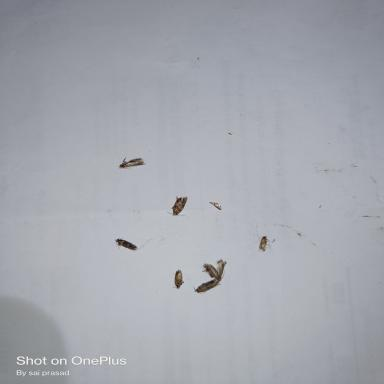pbw: (202, 259, 228, 281), (193, 279, 221, 295), (167, 196, 188, 216), (119, 156, 146, 169), (115, 236, 136, 251), (172, 271, 184, 290), (258, 236, 270, 251)
